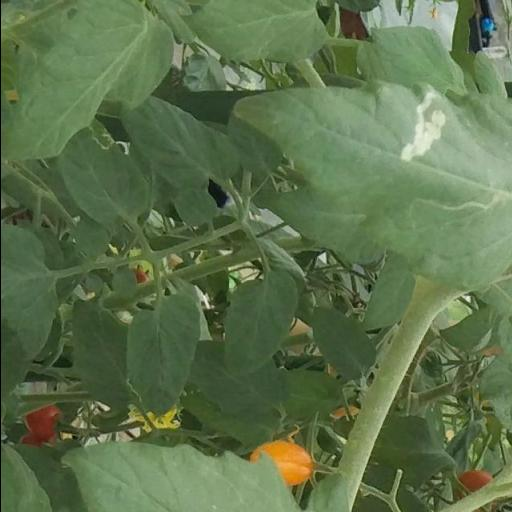disease_tomato: (227, 72, 512, 292)
